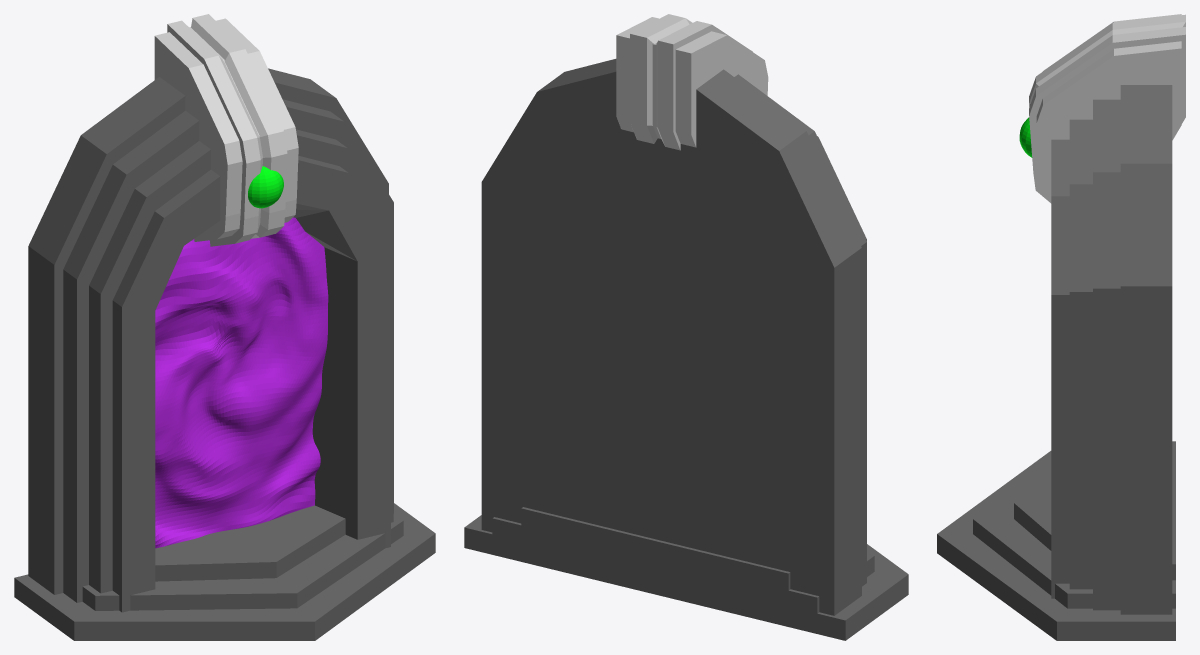
Rendered from Portal.fbx.
3 views of the same model, side by side, from view 1: azimuth 30°, elevation 25°; view 2: azimuth 150°, elevation 25°; view 3: azimuth 270°, elevation 25° (orthographic). The views are drawn at different scales.
Parts seen in each view (by area): view 1: PortalBody, PortalEntrance; view 2: PortalBody; view 3: PortalBody.
Part boxes in pixels (x1,y1,x2,y2): PortalBody: (14, 14, 435, 640); PortalEntrance: (155, 217, 328, 548); PortalBody: (464, 14, 908, 640); PortalBody: (937, 14, 1185, 640).
Size of the model in its own units: 5484 by 7697 by 3289.
